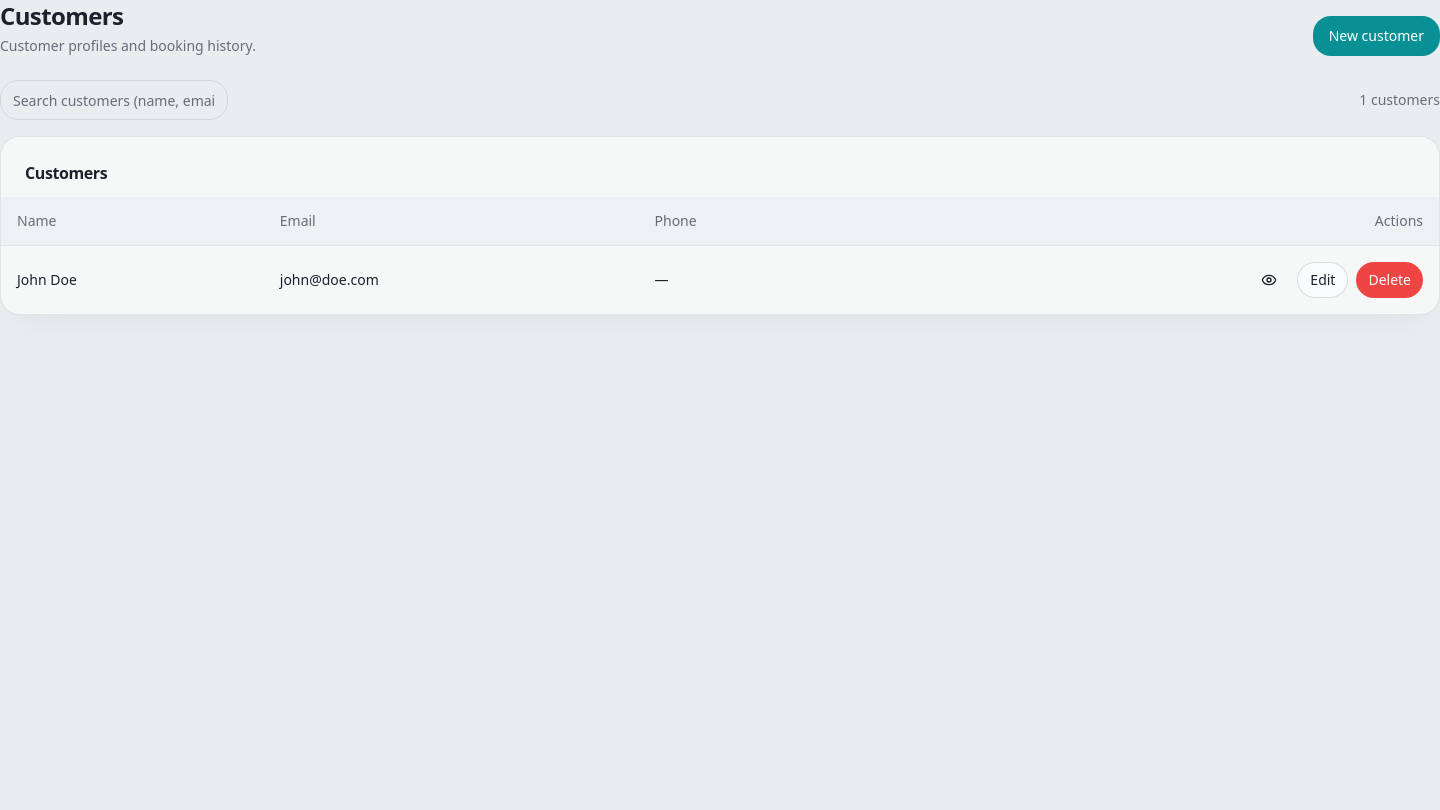
Customers page › deletes a customer and updates the UI after success
Expected: the text "John Doe" is shown, [1,245,264,314]
Open confirm
Click the button "Delete". click: coordinates (1390, 280)
box: [1356,262,1423,298]
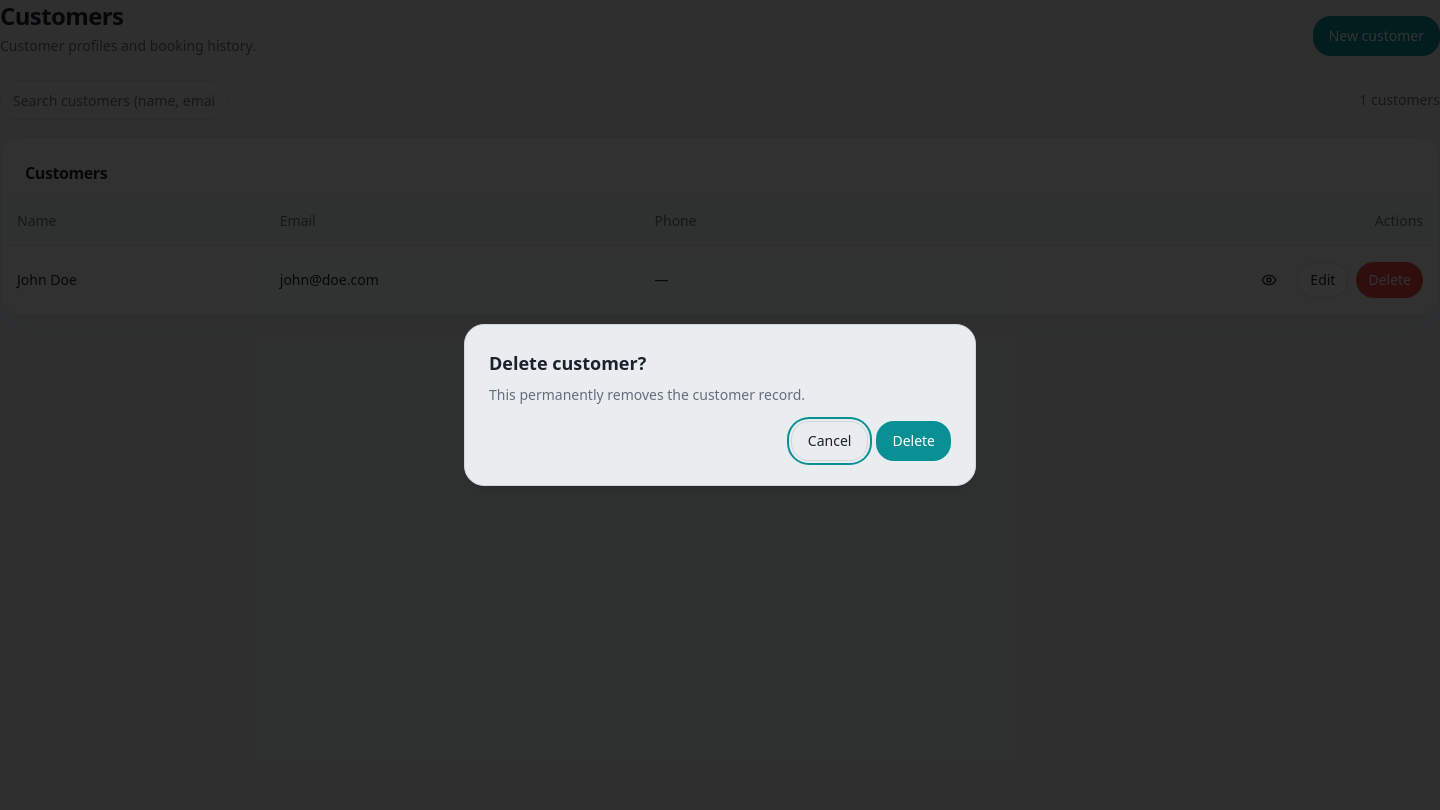
Confirm delete
Click the button "Delete". click: coordinates (914, 441)
box: [876,421,951,461]
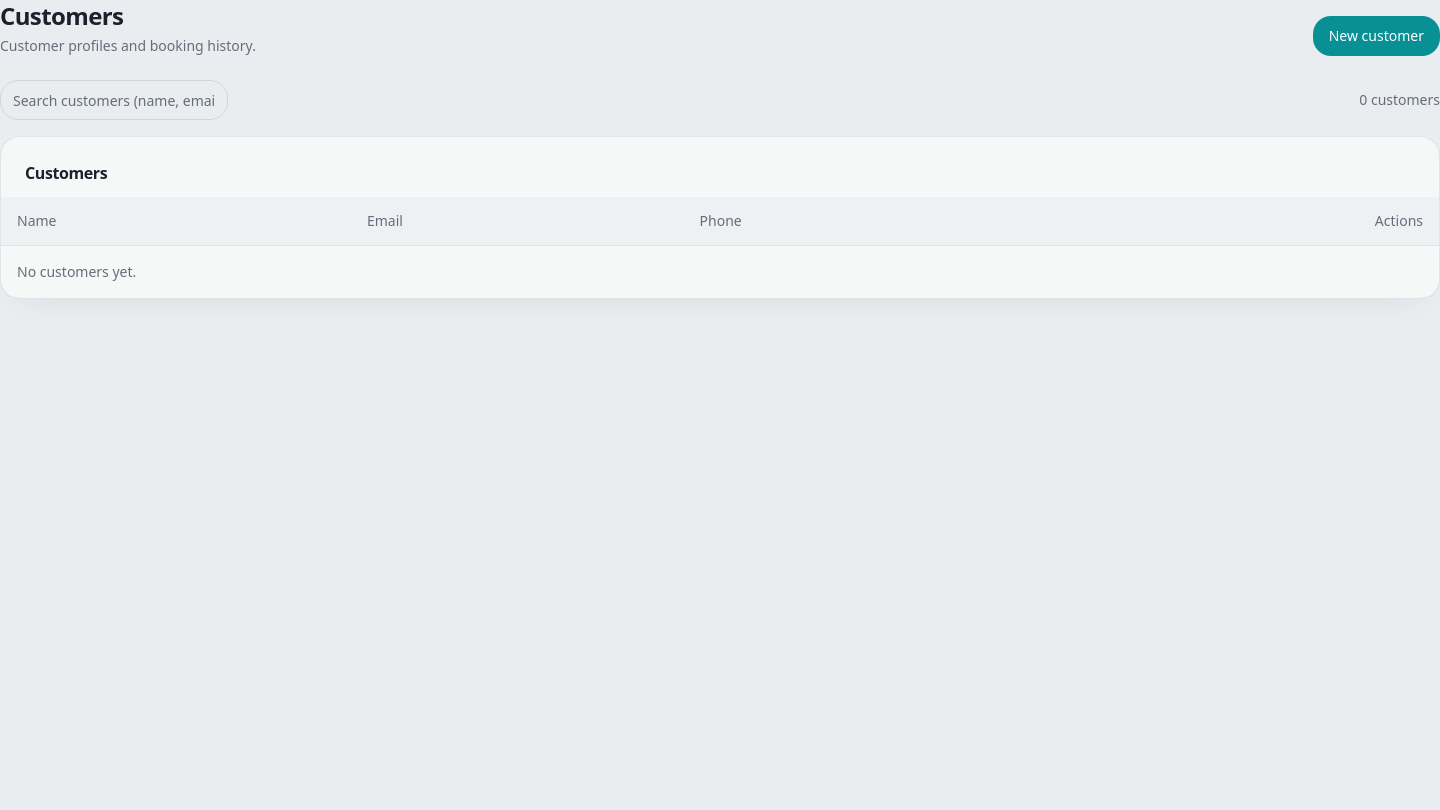
Result: the text "No customers yet." is shown at [1,245,1439,298]
